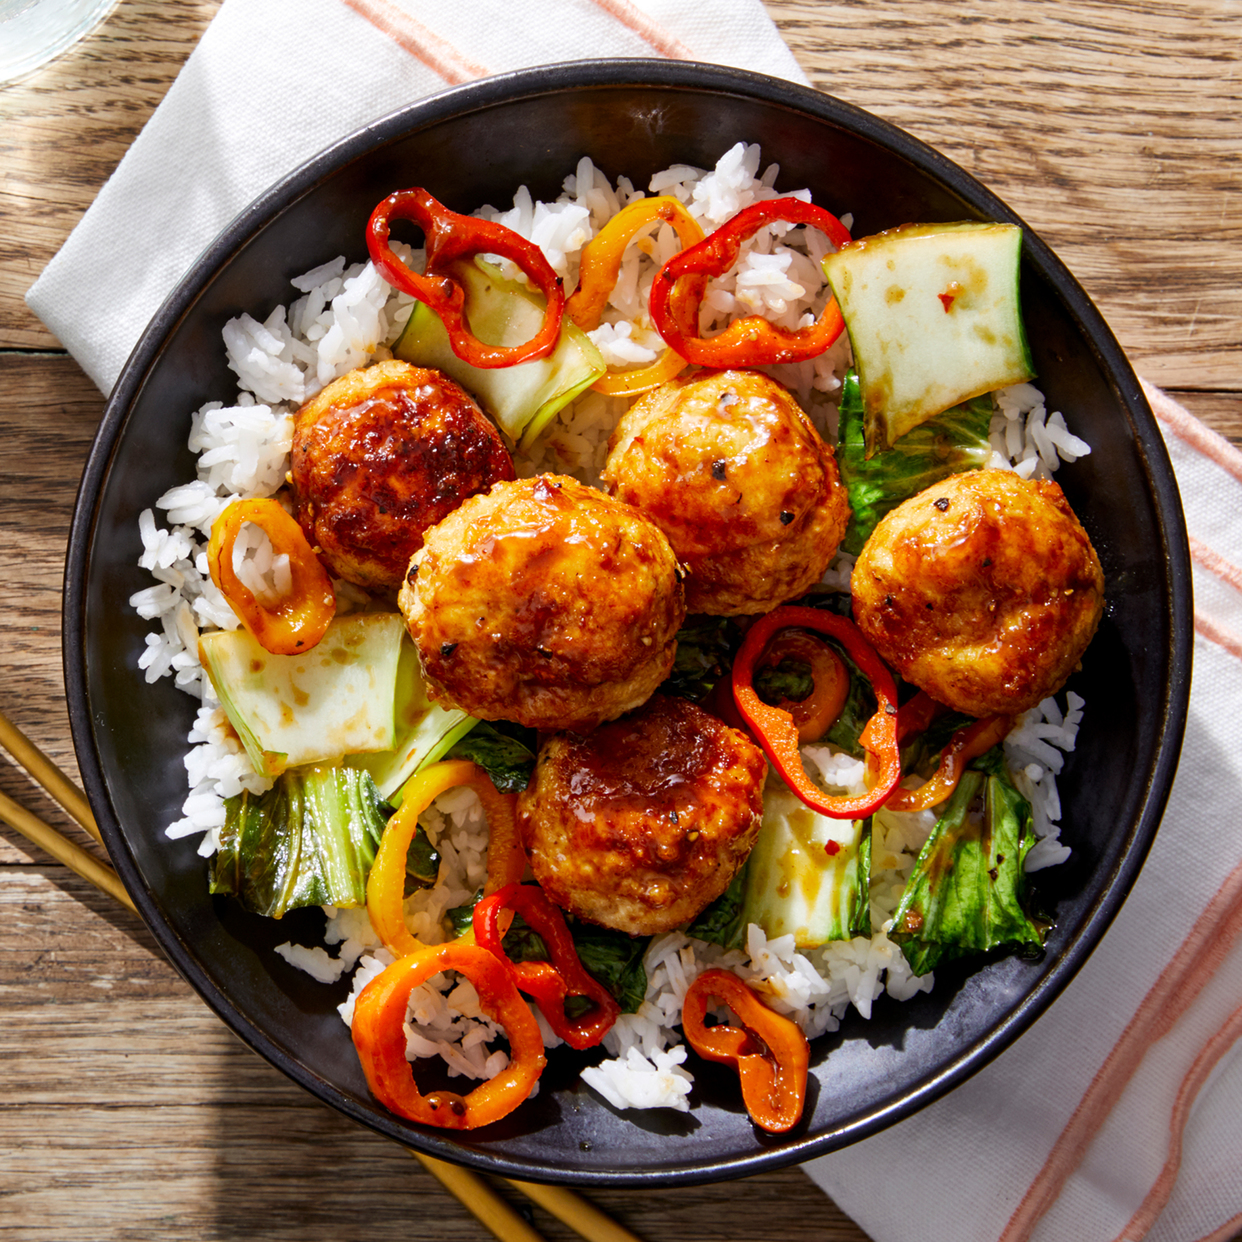meatballs: (307, 407, 1058, 911)
plain rice: (235, 313, 301, 492)
